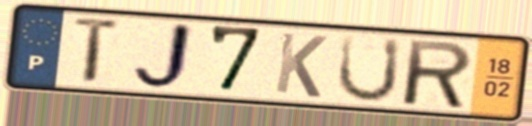7: (208, 23, 264, 97)
J: (128, 19, 197, 93)
K: (271, 30, 330, 101)
R: (403, 37, 476, 111)
T: (71, 14, 125, 87)
U: (334, 32, 404, 105)
